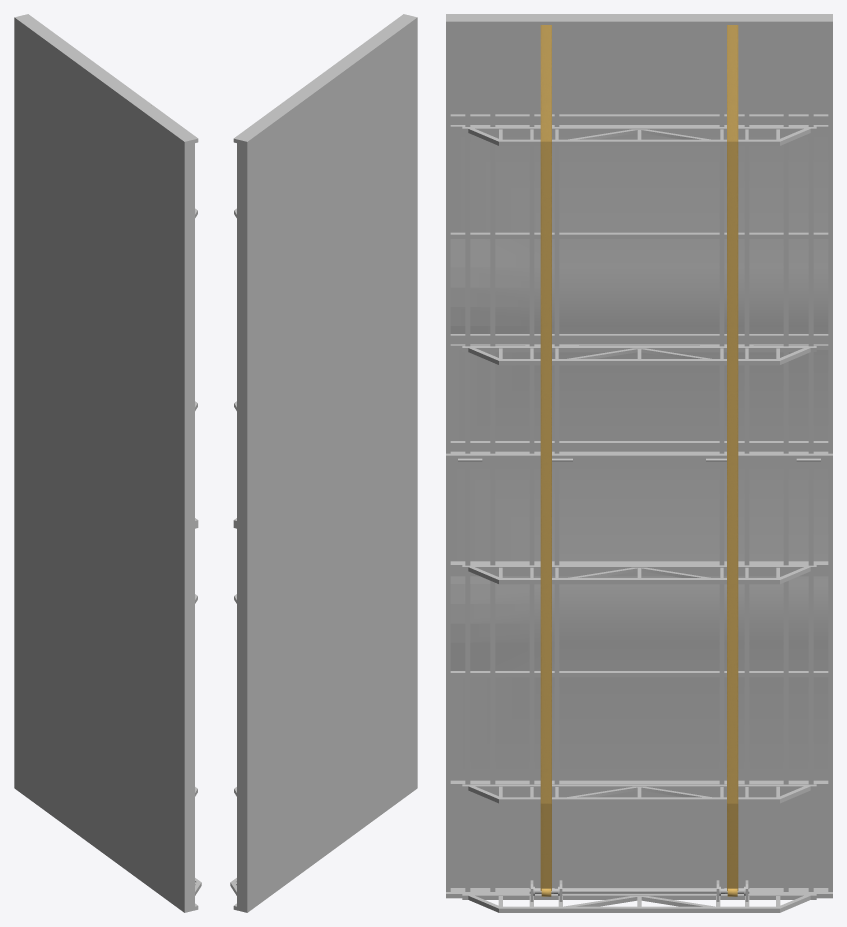
The model's file is SM_Door_Hangar_Closed_A.fbx.
The picture shows the model from 3 angles, left to right: view 1: azimuth 30°, elevation 25°; view 2: azimuth 150°, elevation 25°; view 3: azimuth 270°, elevation 25°; orthographic projection. The views are drawn at different scales.
Parts seen in each view (by area): view 1: SM_Door_Hangar_Closed_A_LOD0; view 2: SM_Door_Hangar_Closed_A_LOD0; view 3: SM_Door_Hangar_Closed_A_LOD0.
Boxes of the visible parts, box(x1,y1,x2,y2) form: SM_Door_Hangar_Closed_A_LOD0: box(14, 14, 201, 912); SM_Door_Hangar_Closed_A_LOD0: box(230, 14, 417, 912); SM_Door_Hangar_Closed_A_LOD0: box(446, 14, 832, 912).
Size of the model in its own units: 82.02 by 600 by 1500.
Materials: 3 (1 with a texture image).
